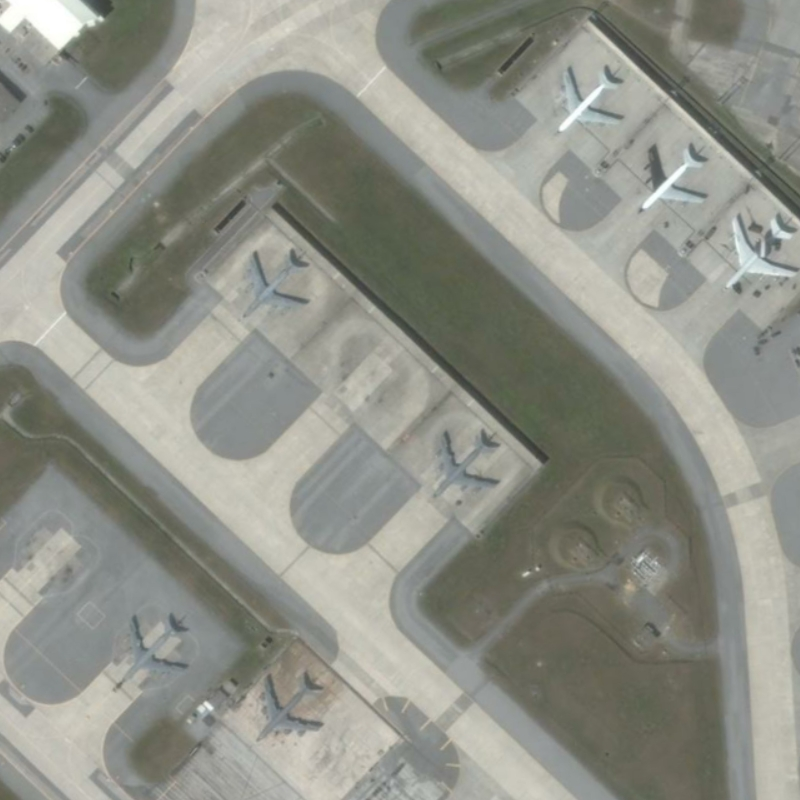A11: (549, 56, 629, 139), (634, 135, 711, 219)
A14: (108, 605, 200, 697), (228, 243, 317, 328), (251, 663, 329, 750), (427, 419, 505, 505)
A7: (718, 200, 800, 294)
